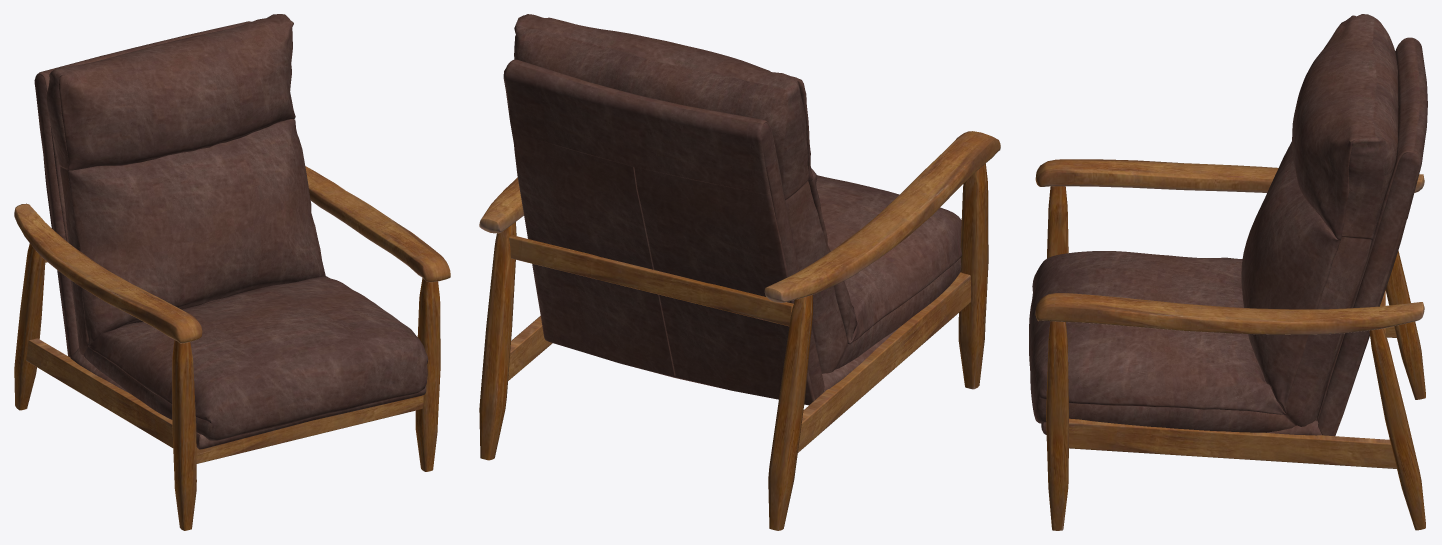
Rendered from office_chair_B07B4M6B3B.glb.
3 renders of one model, left to right at view 1: azimuth 30°, elevation 25°; view 2: azimuth 150°, elevation 25°; view 3: azimuth 270°, elevation 25°, orthographic. The views are drawn at different scales.
Parts seen in each view (by area): view 1: RootNode; view 2: RootNode; view 3: RootNode.
Part boxes in pixels (x1=…): RootNode: x1=14, y1=14, x2=450, y2=530; RootNode: x1=479, y1=14, x2=1000, y2=530; RootNode: x1=1029, y1=14, x2=1427, y2=530.
Size of the model in its own units: 0.782 by 0.8971 by 0.8303.
1 material, 1 textured.
